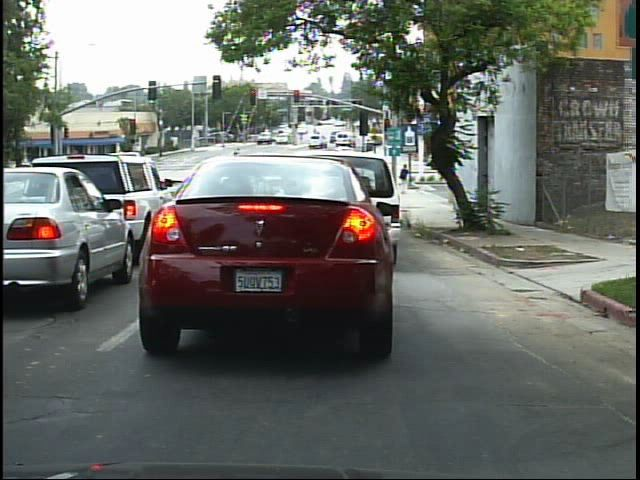car: (119, 163, 412, 361), (3, 171, 119, 310)
